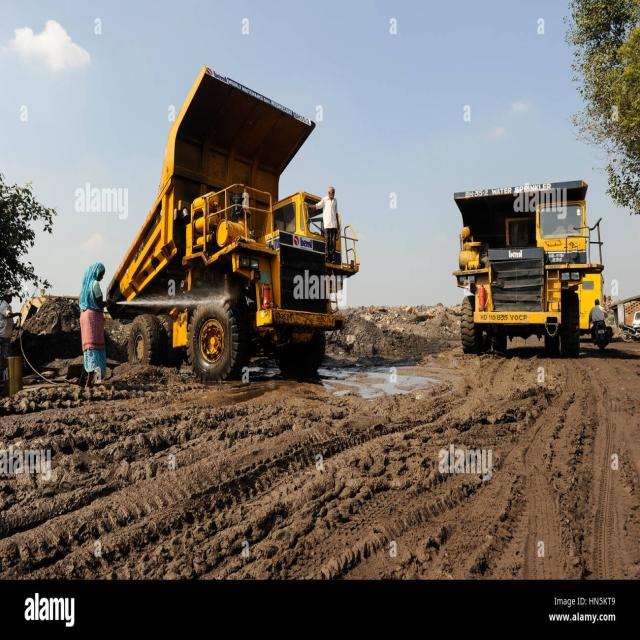dump_truck: (72, 66, 348, 374), (448, 189, 592, 351)
